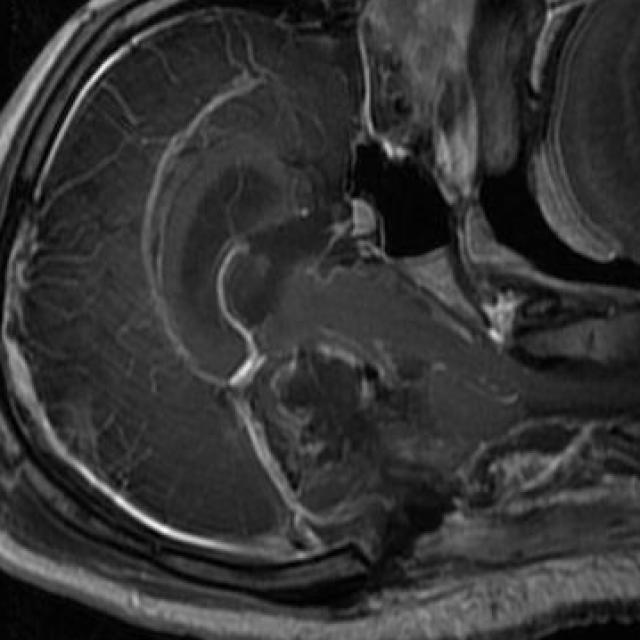glioma: (264, 335, 431, 483)
